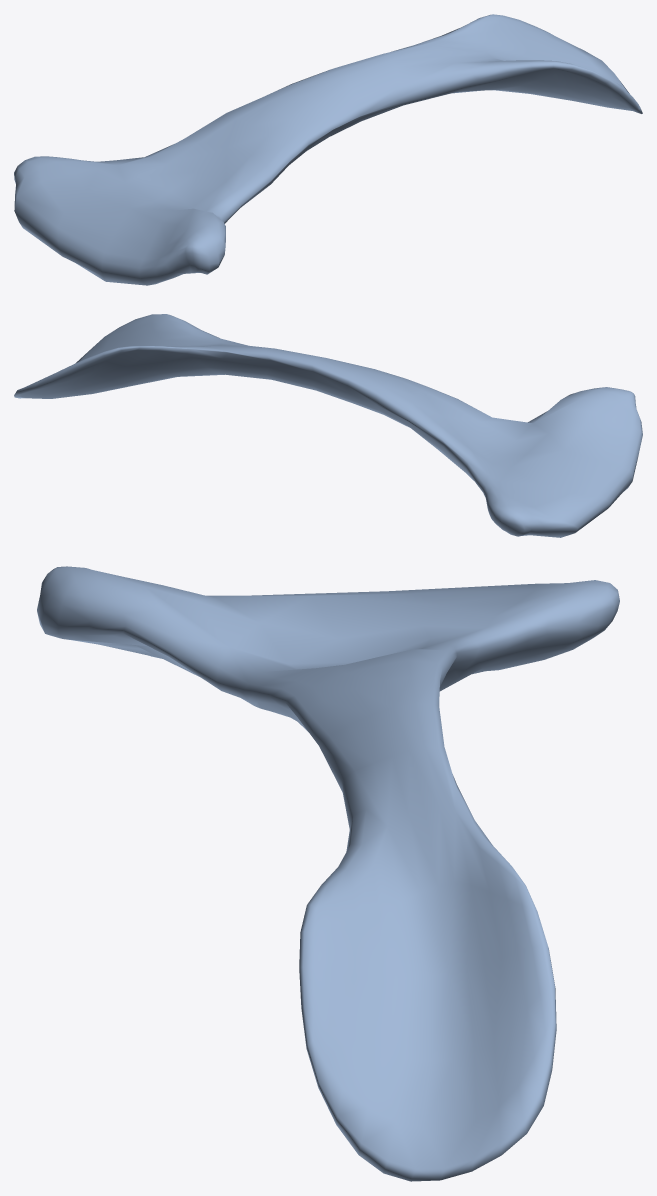
The model's file is junRoadRame.fbx.
3 views of the same model, one above another, from view 1: azimuth 30°, elevation 25°; view 2: azimuth 150°, elevation 25°; view 3: azimuth 270°, elevation 25° (orthographic). The views are drawn at different scales.
Parts seen in each view (by area): view 1: rame_LOD0; view 2: rame_LOD0; view 3: rame_LOD0.
Part boxes in pixels (box(x1,y1,x2,y2)): rame_LOD0: box(14, 14, 642, 285); rame_LOD0: box(14, 314, 642, 537); rame_LOD0: box(37, 566, 619, 1181).
Bounding box in the file's own units: 1057 × 189 × 475.
